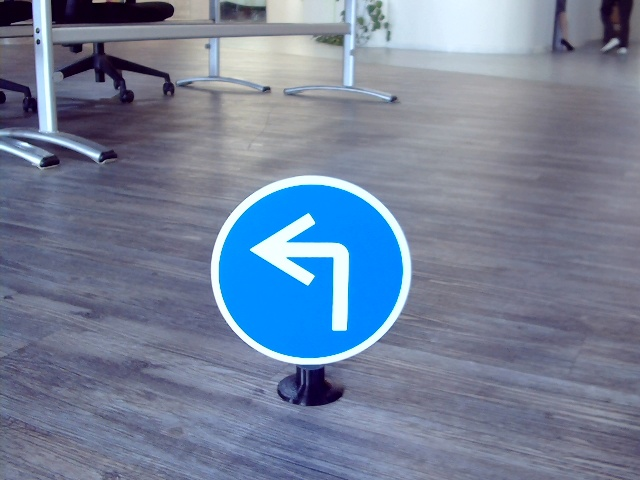turn_left: (245, 209, 363, 333)
